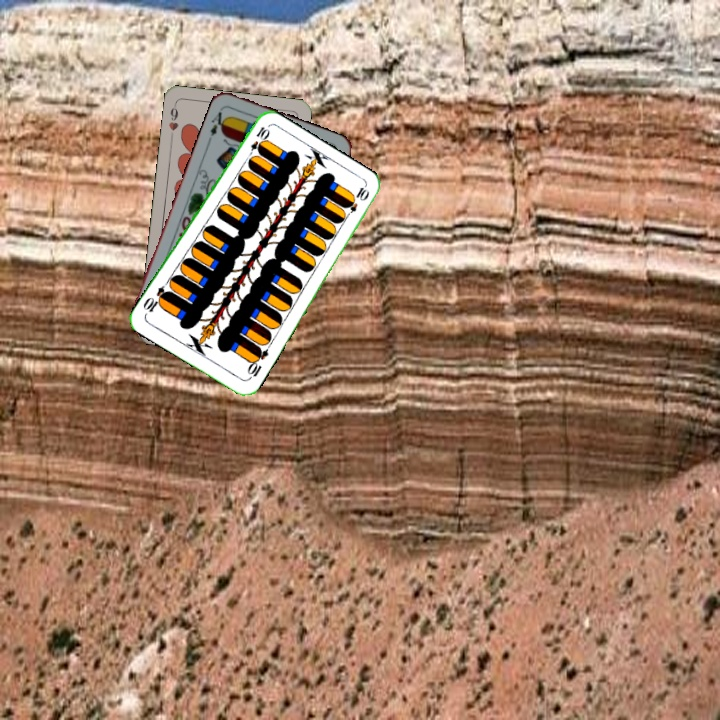E10: (243, 122, 271, 161), (243, 343, 271, 382)
EA: (204, 105, 230, 144)
H9: (165, 100, 181, 141)
